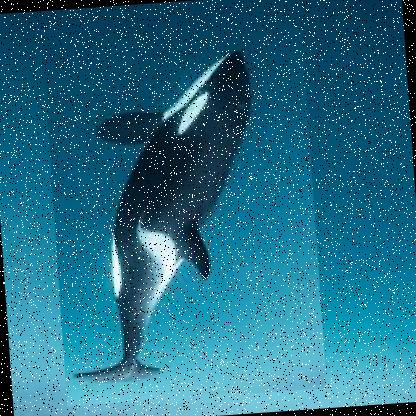killer_whale: (41, 25, 327, 406)
